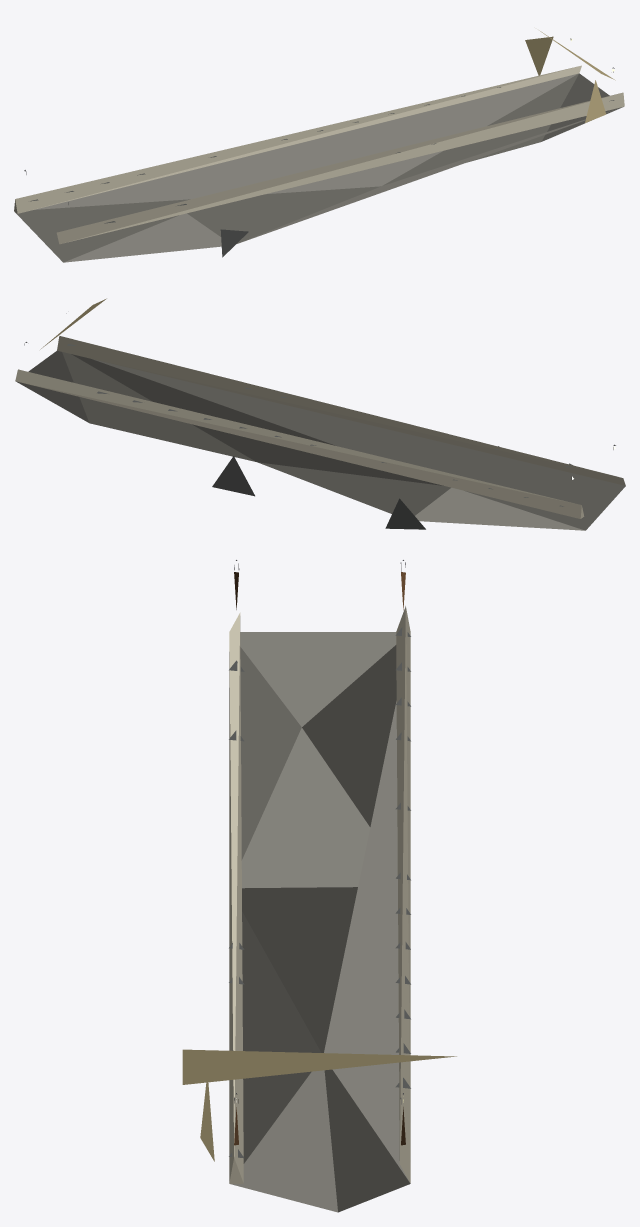
File: bridge_brandywine_lod2.glb
3 renders of one model, top to bottom at view 1: azimuth 30°, elevation 25°; view 2: azimuth 150°, elevation 25°; view 3: azimuth 270°, elevation 25°, orthographic. The views are drawn at different scales.
Visible parts, largest first — view 1: bridge_brandywine_lod2; view 2: bridge_brandywine_lod2; view 3: bridge_brandywine_lod2.
Boxes of the visible parts, x1,y1,x2,y2 form: bridge_brandywine_lod2: (14, 30, 624, 262); bridge_brandywine_lod2: (15, 298, 625, 530); bridge_brandywine_lod2: (182, 560, 456, 1212).
Bounding box in the file's own units: 36.1 × 6.82 × 8.4.
